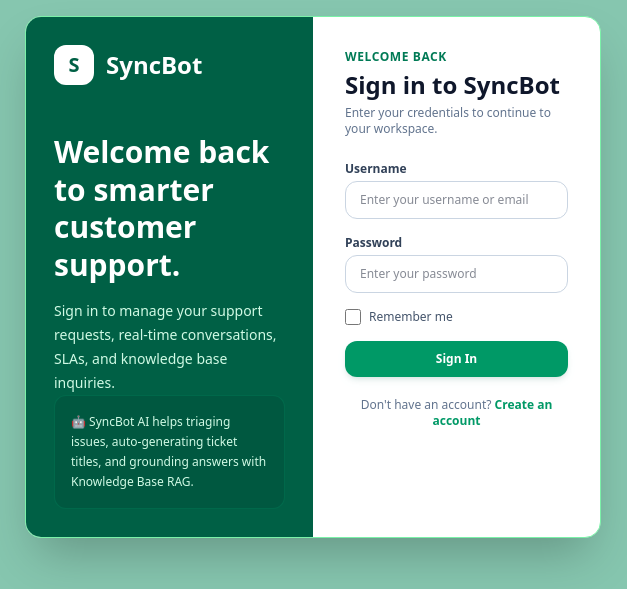
Test case: Login page › shows an authentication error returned by the API
The image size is (627, 589).
In the field labelled "Username": (456, 200) 345,181 -> 568,219, type "wrong@example.com"
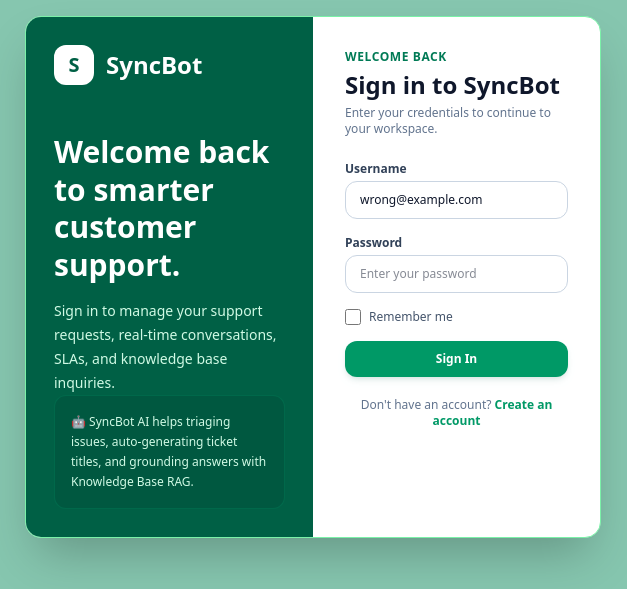
In the password field labelled "Password": (456, 274) 345,255 -> 568,293, type "wrong"
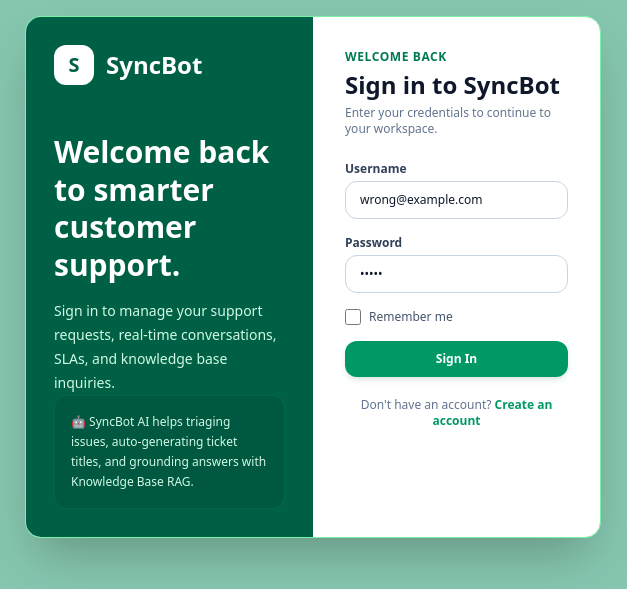
Click the button "Sign In": (456, 359) 345,341 -> 568,377
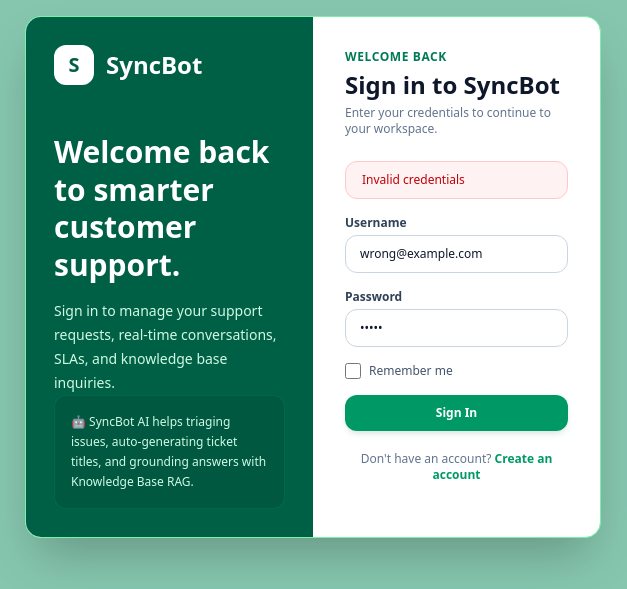
Expected: the message reads "Invalid credentials", 362,171 -> 465,188
